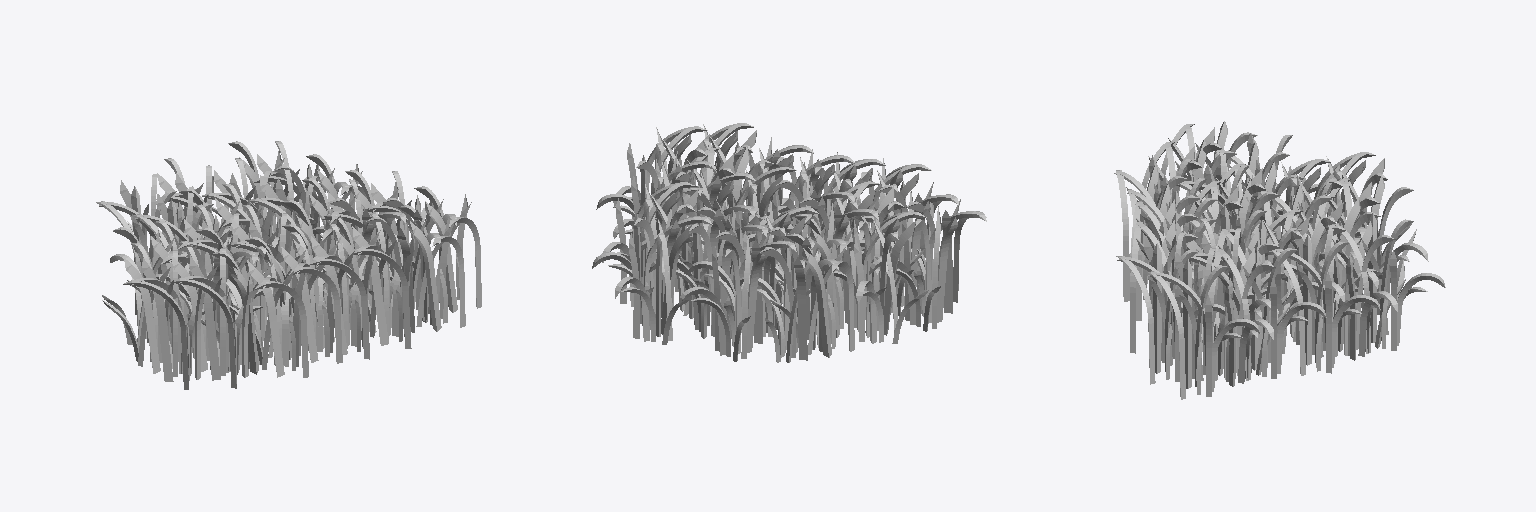
Rendered from grass3.obj.
The picture shows the model from 3 angles: view 1: azimuth 30°, elevation 25°; view 2: azimuth 150°, elevation 25°; view 3: azimuth 270°, elevation 25°; orthographic projection.
Parts seen in each view (by area): view 1: Bundle_3; view 2: Bundle_3; view 3: Bundle_3.
Part boxes in pixels (left/top/right/bottom): Bundle_3: left=96, top=141, right=481, bottom=389; Bundle_3: left=592, top=123, right=986, bottom=362; Bundle_3: left=1114, top=121, right=1445, bottom=399.
Bounding box in the file's own units: 192 × 60.42 × 156.